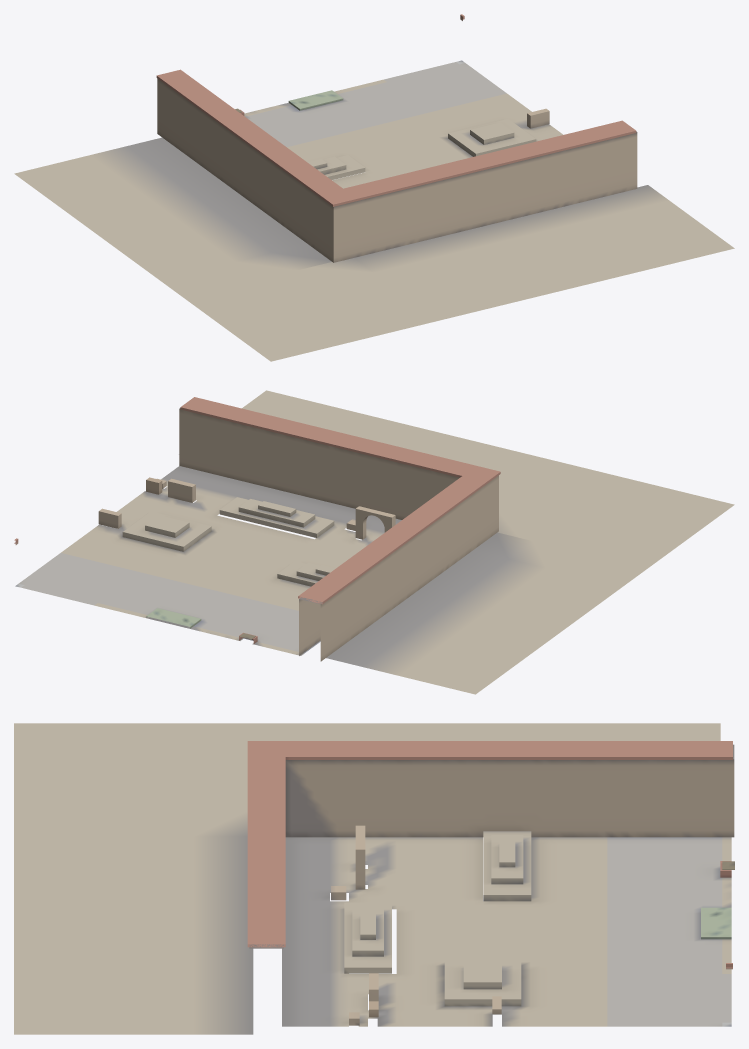
3 renders of one model, top to bottom at view 1: azimuth 30°, elevation 25°; view 2: azimuth 150°, elevation 25°; view 3: azimuth 270°, elevation 25°, orthographic. The views are drawn at different scales.
Visible parts, largest first — view 1: t; view 2: t; view 3: t.
Part boxes in pixels (x1,y1,x2,y2): t: [14, 14, 734, 361]; t: [14, 390, 734, 694]; t: [14, 723, 734, 1034].
Bounding box in the file's own units: 77 × 9.35 × 75.33.
